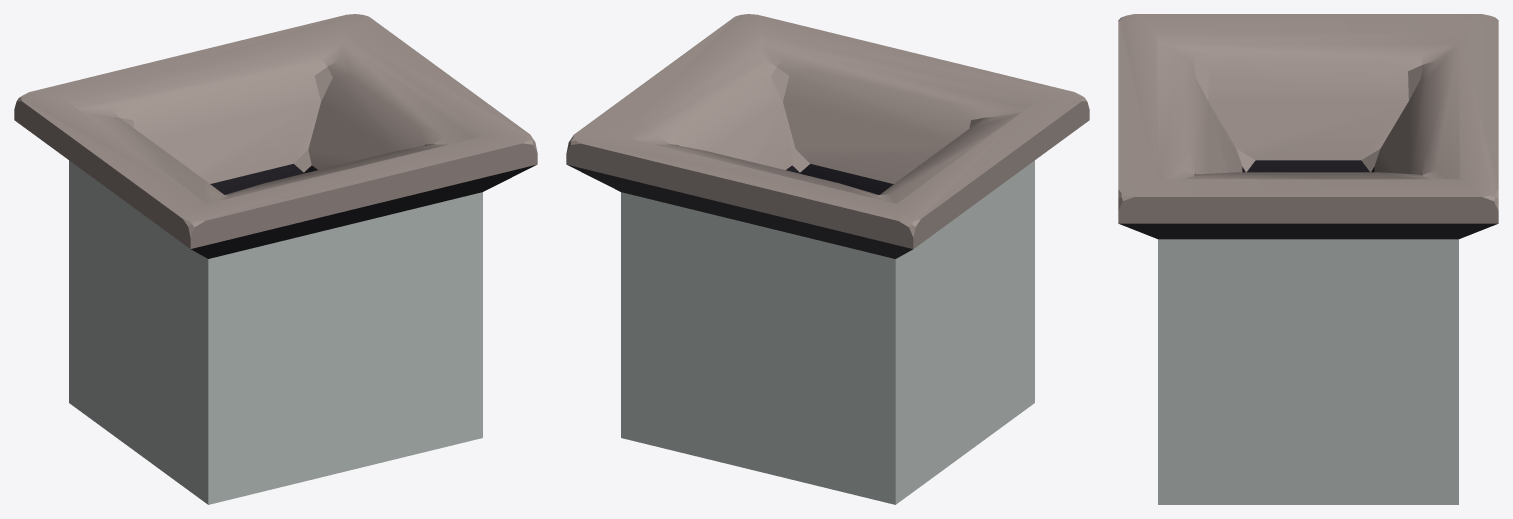
Rendered from Lixo.fbx.
3 renders of one model, left to right at view 1: azimuth 30°, elevation 25°; view 2: azimuth 150°, elevation 25°; view 3: azimuth 270°, elevation 25°, orthographic. The views are drawn at different scales.
Parts seen in each view (by area): view 1: Cube.019; view 2: Cube.019; view 3: Cube.019.
Part boxes in pixels (x1,y1,x2,y2): Cube.019: [14, 14, 537, 504]; Cube.019: [566, 14, 1089, 504]; Cube.019: [1118, 14, 1498, 504].
Bounding box in the file's own units: 1.64 × 1.36 × 1.44.
